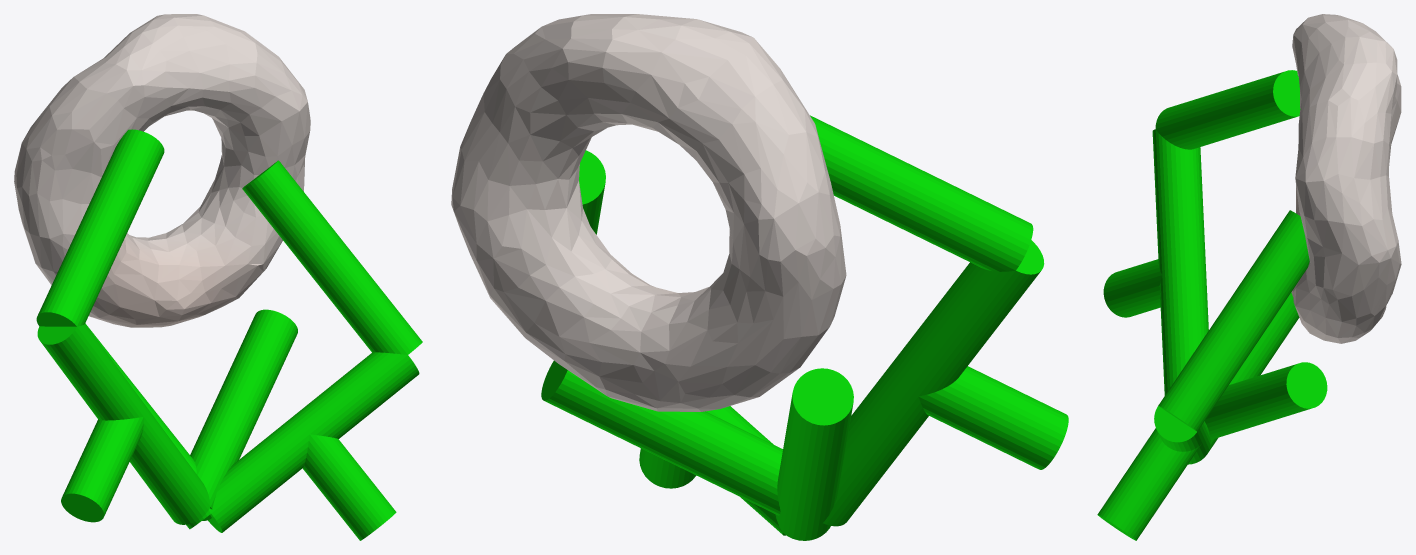
File: round_000_trial_001.obj
3 renders of one model, left to right at view 1: azimuth 30°, elevation 25°; view 2: azimuth 150°, elevation 25°; view 3: azimuth 270°, elevation 25°, orthographic. The views are drawn at different scales.
Visible parts, largest first — view 1: geometry_0, geometry_1, geometry_2; view 2: geometry_0, geometry_1, geometry_2; view 3: geometry_0, geometry_1, geometry_2.
Boxes of the visible parts, <box> form: geometry_0: <box>14,14,310,327</box>; geometry_1: <box>36,129,297,524</box>; geometry_2: <box>85,160,422,540</box>; geometry_0: <box>451,14,846,411</box>; geometry_1: <box>541,115,1068,526</box>; geometry_2: <box>579,150,853,540</box>; geometry_0: <box>1291,14,1401,343</box>; geometry_1: <box>1103,70,1327,439</box>; geometry_2: <box>1097,210,1309,540</box>.
Bounding box in the file's own units: 0.095 × 0.1083 × 0.0644.
